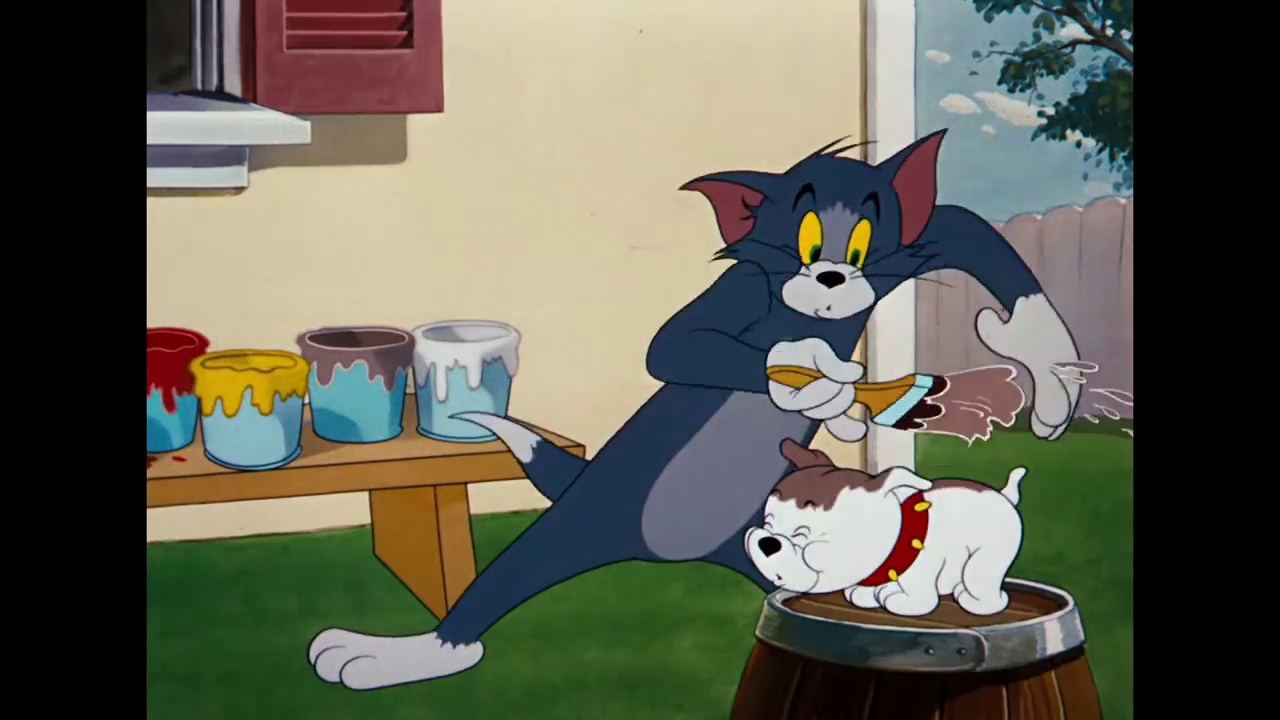tom: (682, 123, 951, 329)
